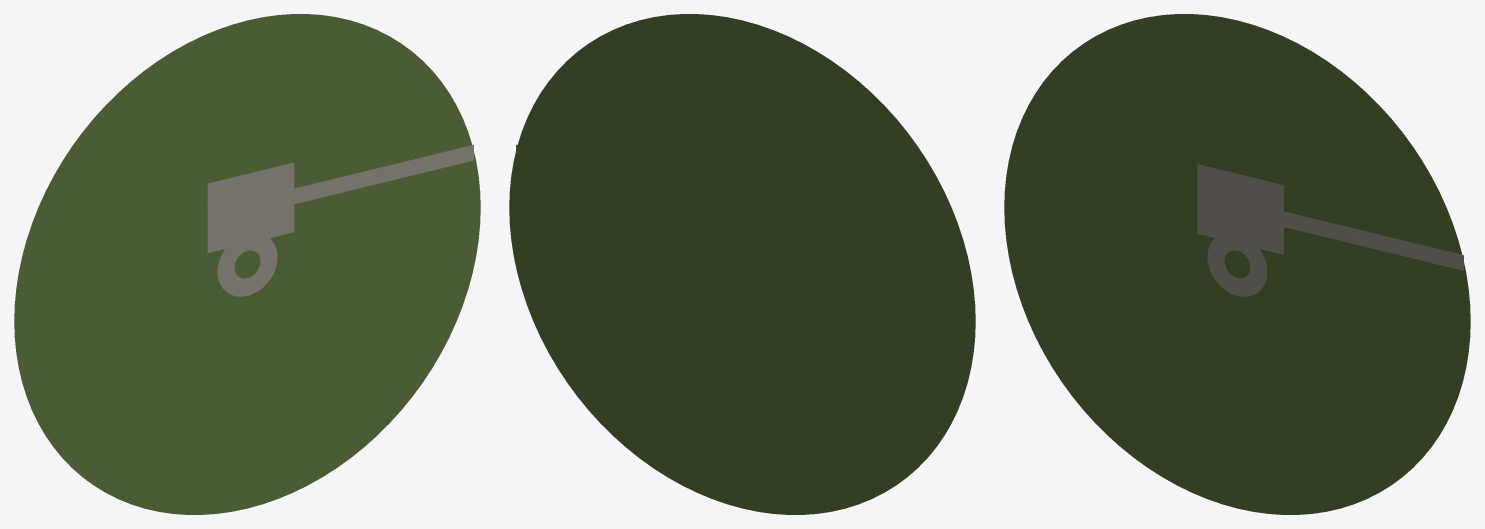
The model's file is ground.glb.
The picture shows the model from 3 angles, left to right: view 1: azimuth 30°, elevation 25°; view 2: azimuth 150°, elevation 25°; view 3: azimuth 330°, elevation 25°; orthographic projection.
Visible parts, largest first — view 1: ground; view 2: ground; view 3: ground.
Boxes of the visible parts, bbox=[...] form: ground: bbox=[14, 14, 480, 514]; ground: bbox=[509, 14, 975, 514]; ground: bbox=[1004, 14, 1470, 514].
Bounding box in the file's own units: 140 × 140 × 0.03.
2 materials, 2 textured.
